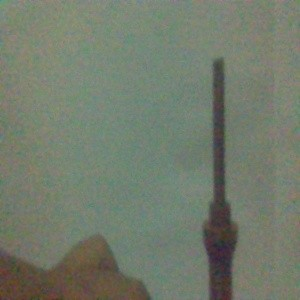obeng: (200, 57, 239, 300)
